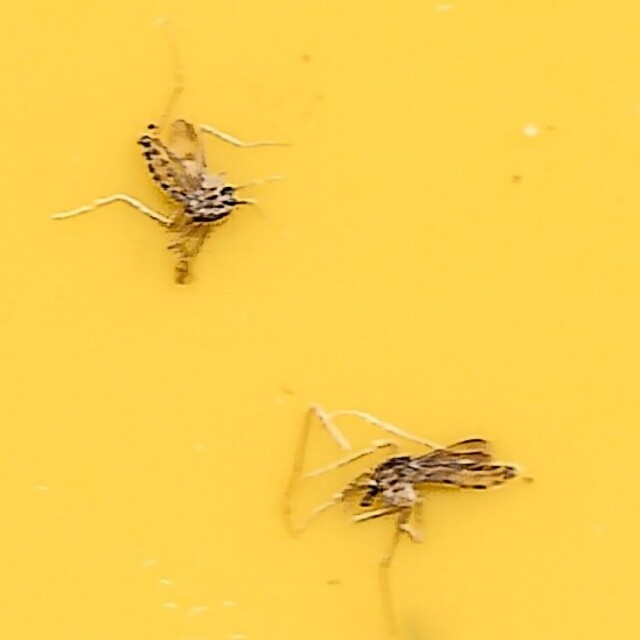Nematocera: (348, 429, 519, 523), (121, 117, 248, 234)
